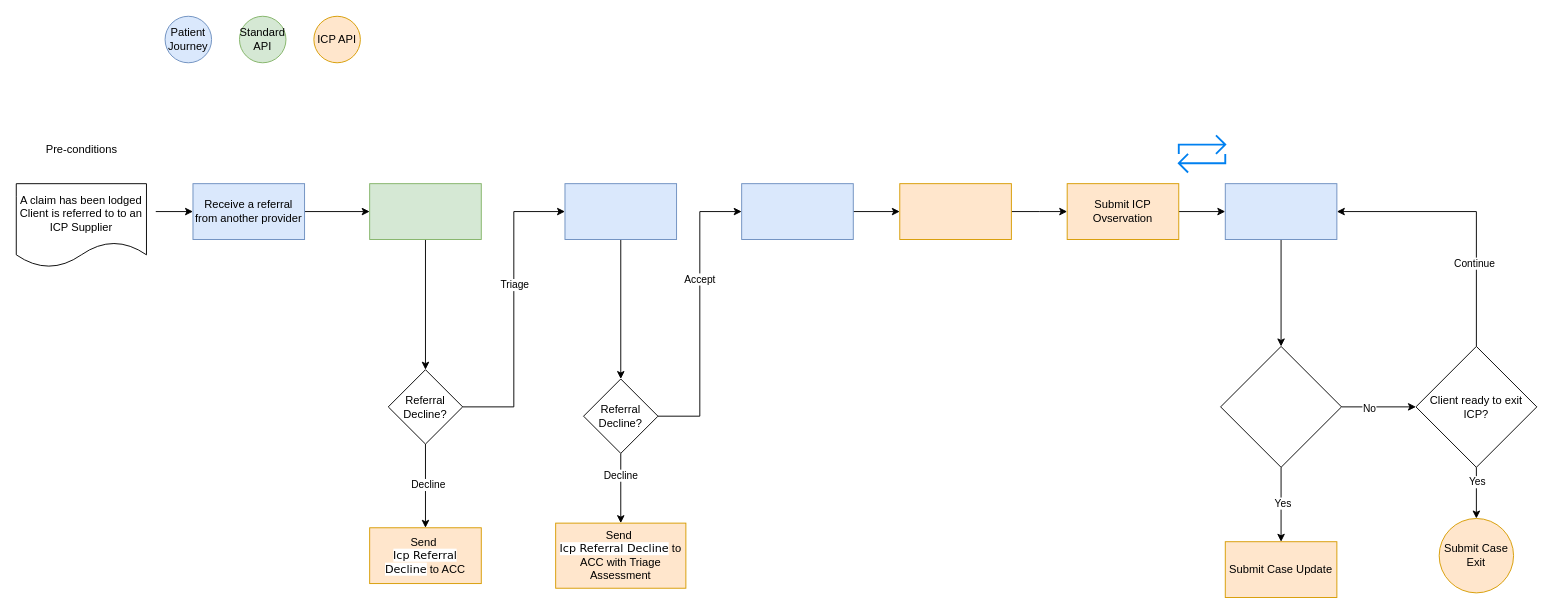
Image size: 1553x614. Some labels were removed from this diagram. Here are the shapes that lost their labels. From the top down, the box of each, then its label:
(369, 183, 481, 239): Query Client and Claim Details
(564, 183, 677, 239): Meet with the patient and triage their referral
(741, 183, 853, 239): Agree on recovery goals with client
(899, 183, 1011, 239): Submit ICP Case Create
(1224, 183, 1337, 239): Continue treatment of client
(1220, 345, 1342, 467): Requires adjustment to funding bundle?
